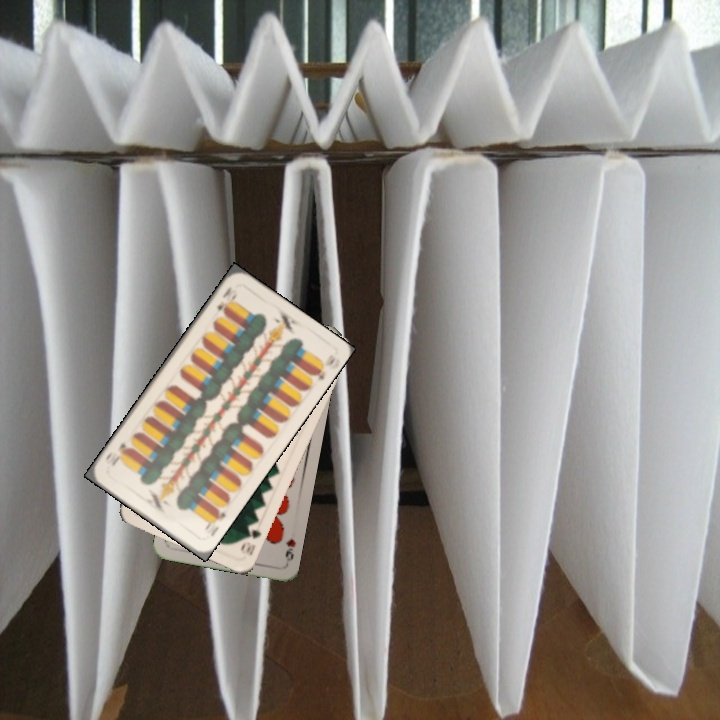E10: (212, 282, 240, 316), (200, 505, 228, 533)
G10: (236, 519, 264, 558)
H9: (281, 533, 298, 564)
